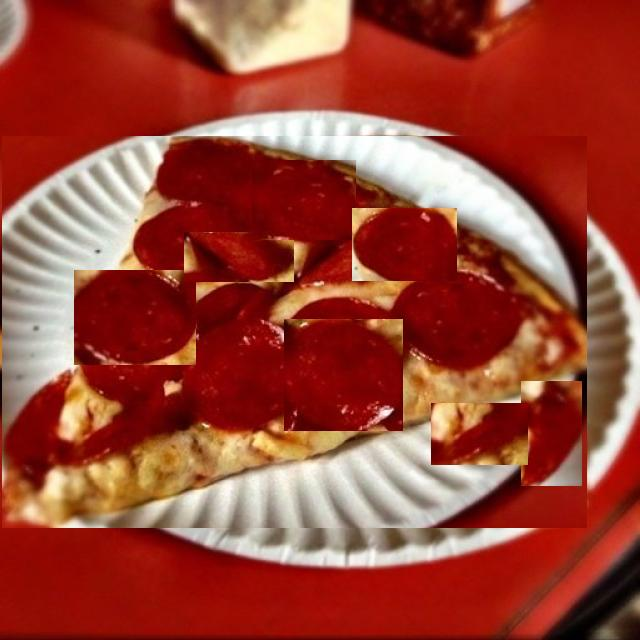pepperoni: (284, 319, 403, 431), (392, 293, 509, 401), (74, 270, 196, 365), (190, 295, 302, 395), (252, 160, 356, 240), (352, 208, 457, 281), (521, 381, 582, 486), (332, 143, 432, 204), (431, 403, 528, 465), (184, 232, 294, 282)
pizza: (2, 136, 587, 528)
